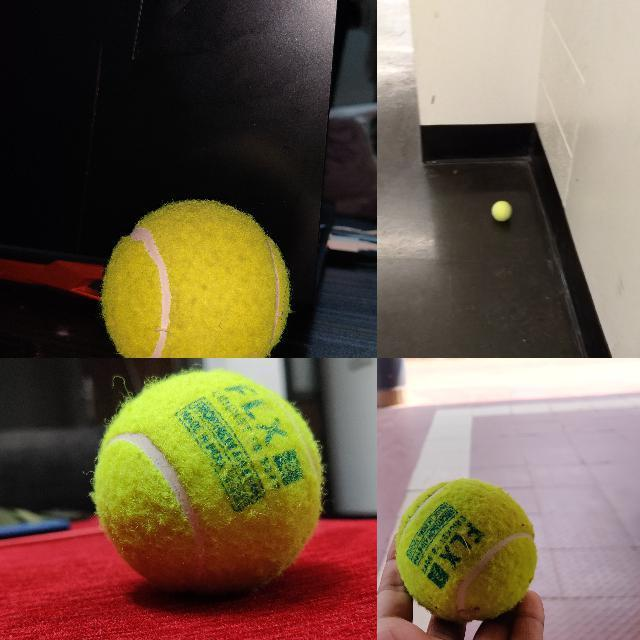tennis-ball: (88, 367, 329, 599), (98, 198, 291, 357), (395, 479, 537, 622), (491, 200, 514, 222)
